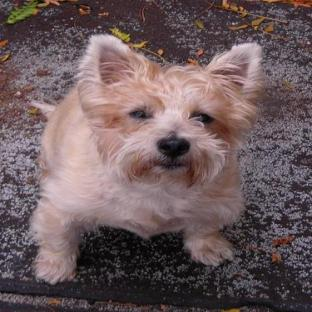Animal: (32, 35, 263, 284)
